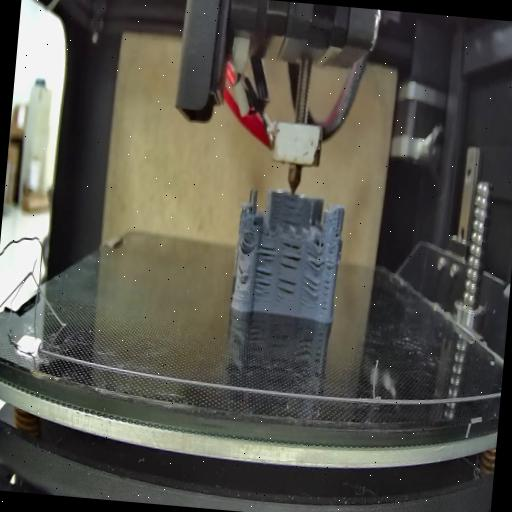cracks: (318, 250, 336, 318), (278, 242, 304, 272), (274, 276, 298, 307), (275, 202, 305, 226), (252, 267, 274, 299), (255, 242, 278, 264), (301, 277, 320, 298), (306, 250, 324, 272), (238, 262, 250, 288), (240, 234, 254, 252), (332, 226, 342, 244)
